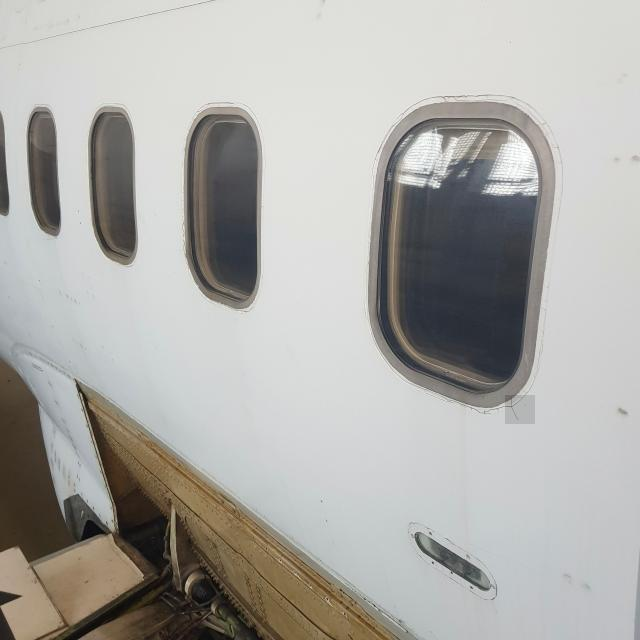crack: (506, 396, 536, 425)
